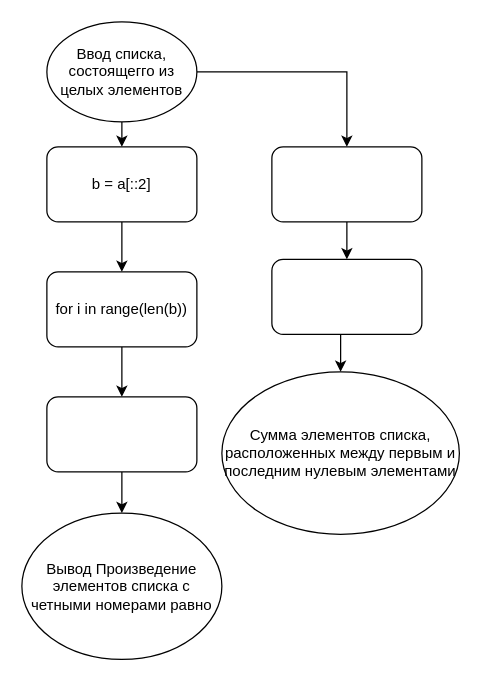
The diagram is 481 pixels wide and 681 high, and some of its shapes have lost their labels. The shapes that lost their labels are listed below. From the top down, each one's box as (x1, y1, x2, y2) in pixels, then its label:
(271, 146, 422, 222): del b[0] del b[-1]
(271, 258, 422, 334): sum(b)
(46, 396, 197, 472): x *= b[i]
